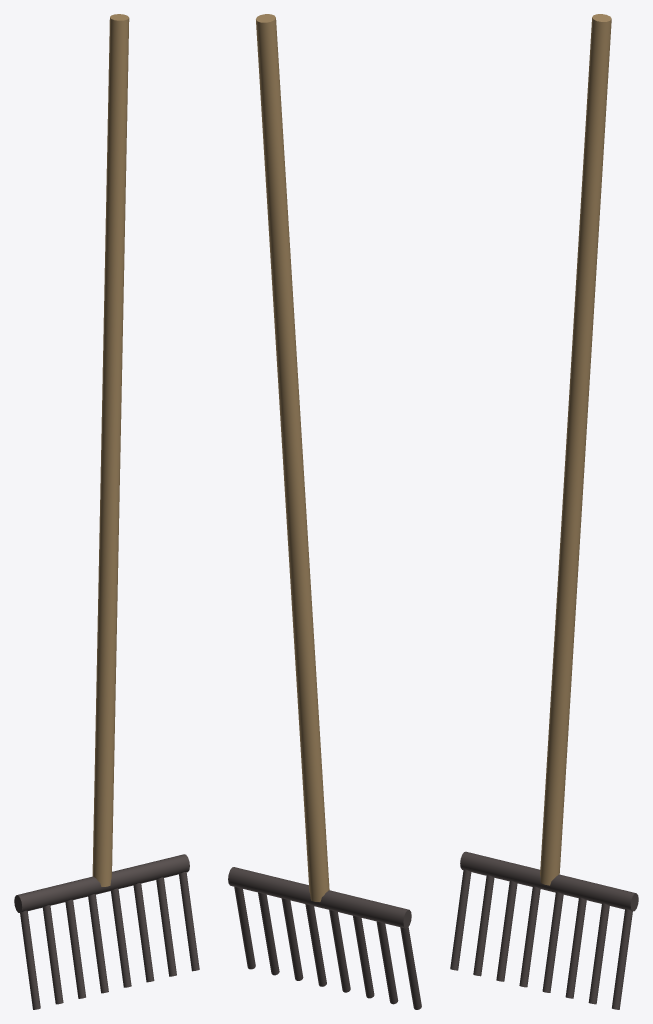
File: rake.glb
3 views of the same model, side by side, from view 1: azimuth 30°, elevation 25°; view 2: azimuth 150°, elevation 25°; view 3: azimuth 330°, elevation 25° (orthographic). The views are drawn at different scales.
Parts seen in each view (by area): view 1: rake-shaft, receiving-rake-head, rake-tine-5, rake-tine-0, rake-tine-2, rake-tine-3, rake-tine-6, rake-tine-1, rake-tine-4, rake-tine-7; view 2: rake-shaft, receiving-rake-head, rake-tine-0, rake-tine-2, rake-tine-4, rake-tine-6, rake-tine-7, rake-tine-1, rake-tine-3, rake-tine-5; view 3: rake-shaft, receiving-rake-head, rake-tine-2, rake-tine-3, rake-tine-0, rake-tine-1, rake-tine-4, rake-tine-5, rake-tine-6, rake-tine-7.
Part boxes in pixels (left/top/right/bottom): rake-shaft: left=92, top=14, right=129, bottom=886; receiving-rake-head: left=14, top=854, right=189, bottom=912; rake-tine-5: left=133, top=883, right=154, bottom=982; rake-tine-0: left=20, top=910, right=40, bottom=1009; rake-tine-2: left=65, top=899, right=85, bottom=998; rake-tine-3: left=88, top=894, right=108, bottom=993; rake-tine-6: left=156, top=877, right=176, bottom=976; rake-tine-1: left=42, top=905, right=63, bottom=1004; rake-tine-4: left=111, top=888, right=131, bottom=987; rake-tine-7: left=179, top=872, right=199, bottom=971; rake-shaft: left=256, top=14, right=329, bottom=901; receiving-rake-head: left=228, top=867, right=411, bottom=928; rake-tine-0: left=400, top=927, right=421, bottom=1009; rake-tine-2: left=353, top=915, right=374, bottom=998; rake-tine-4: left=305, top=904, right=326, bottom=986; rake-tine-6: left=258, top=892, right=279, bottom=975; rake-tine-7: left=234, top=887, right=255, bottom=969; rake-tine-1: left=376, top=921, right=398, bottom=1004; rake-tine-3: left=329, top=910, right=350, bottom=992; rake-tine-5: left=281, top=898, right=303, bottom=980; rake-shaft: left=540, top=14, right=611, bottom=885; receiving-rake-head: left=460, top=851, right=638, bottom=911; rake-tine-2: left=496, top=880, right=517, bottom=981; rake-tine-3: left=519, top=886, right=540, bottom=987; rake-tine-0: left=450, top=869, right=471, bottom=970; rake-tine-1: left=473, top=875, right=494, bottom=976; rake-tine-4: left=542, top=892, right=563, bottom=992; rake-tine-5: left=565, top=897, right=586, bottom=998; rake-tine-6: left=588, top=903, right=609, bottom=1004; rake-tine-7: left=612, top=909, right=632, bottom=1009.
Size of the model in its own units: 0.34 by 1.83 by 0.1336.
